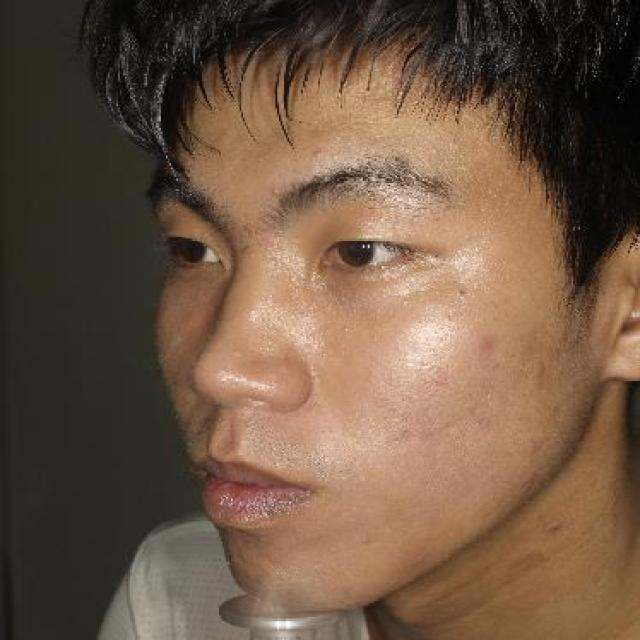Acne: (472, 326, 508, 362)
Whiteheads: (436, 310, 462, 328), (392, 295, 416, 311), (336, 322, 360, 338), (306, 144, 327, 162)
